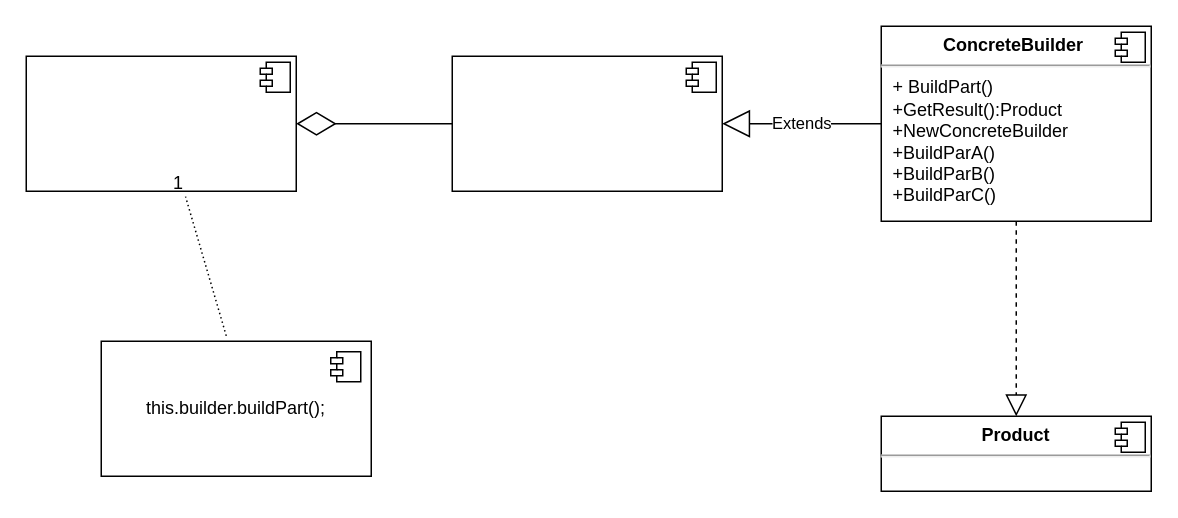
Image size: 1178x518. Some labels were removed from this diagram. Each missing label, with the centre of its shape:
"Builder + BuildPart()" belongs at pixel 586 123.
"Director + Builder.Builder +construct() +new Director" belongs at pixel 160 123.
